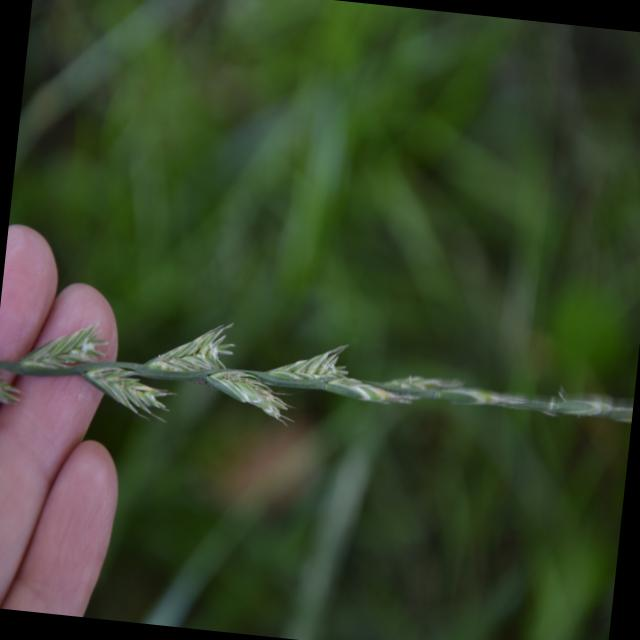Lolium: (0, 294, 635, 480)
